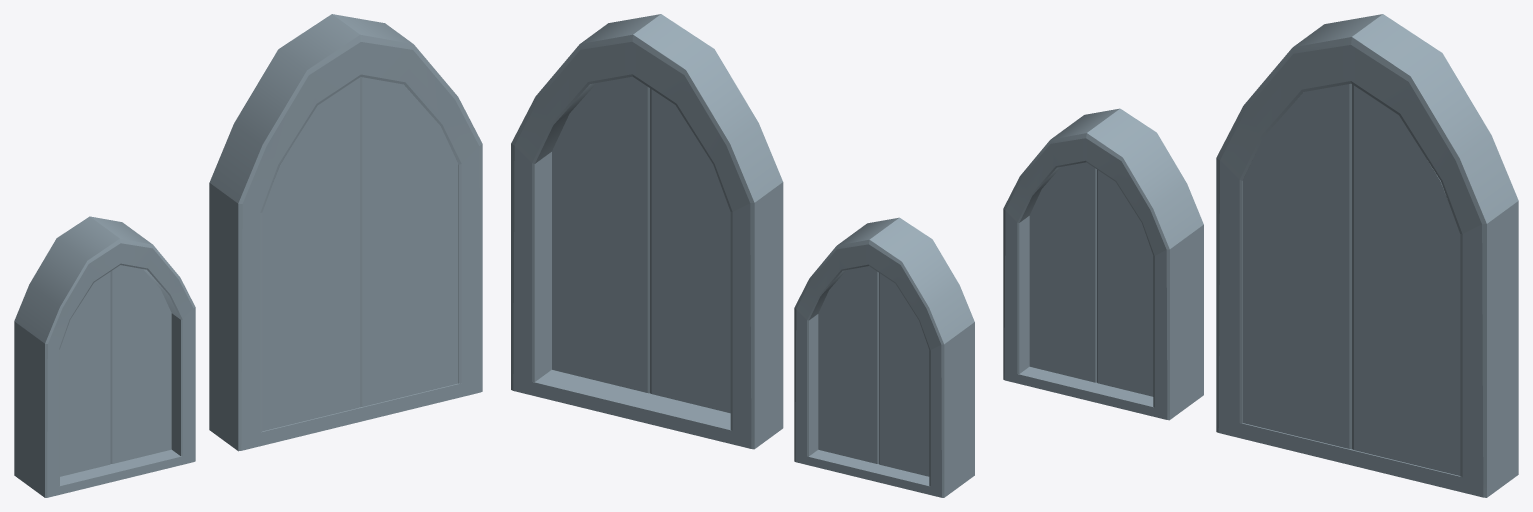
File: Doors.fbx
The picture shows the model from 3 angles, left to right: view 1: azimuth 30°, elevation 25°; view 2: azimuth 150°, elevation 25°; view 3: azimuth 330°, elevation 25°; orthographic projection. The views are drawn at different scales.
Parts seen in each view (by area): view 1: DoorFrame (×2), RightDoor (×2), LeftDoor (×2); view 2: DoorFrame (×2), RightDoor (×2), LeftDoor (×2); view 3: DoorFrame (×2), LeftDoor (×2), RightDoor (×2).
Part boxes in pixels (x1,y1,x2,y2): DoorFrame (×2): (14,14,482,497); RightDoor (×2): (110,77,458,463); LeftDoor (×2): (60,77,359,476); DoorFrame (×2): (511,14,974,497); RightDoor (×2): (552,76,878,463); LeftDoor (×2): (650,88,929,476); DoorFrame (×2): (1003,14,1518,497); LeftDoor (×2): (1029,83,1351,449); RightDoor (×2): (1097,84,1460,475).
Bounding box in the file's own units: 6.32 × 5.34 × 0.8043.
